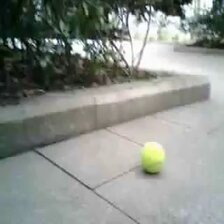tennis: (140, 143, 164, 173)
